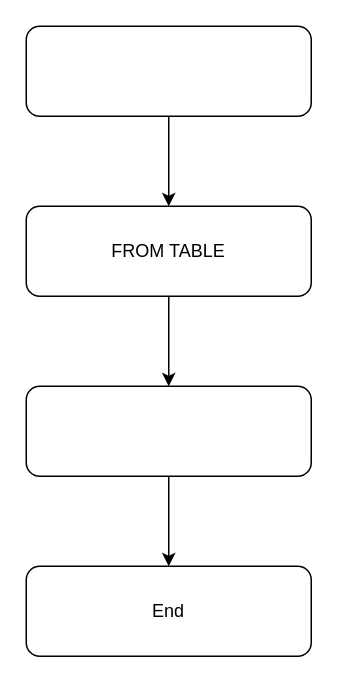
This 338x683 diagram has some shape labels left out. The shapes that lost their labels are listed below. From the top down, each one's centre as x and y in pixels, then its label:
At point 168,70: "Start SELECT columns".
At point 168,430: "WHERE Condition".
